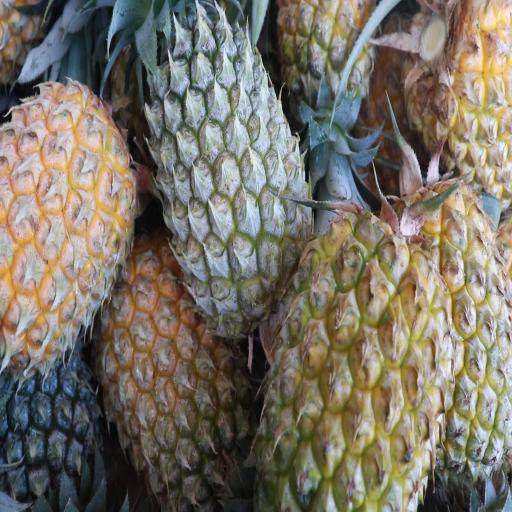------------------------------: (276, 0, 377, 188)
Pineapple - v8 v1: (259, 217, 441, 512), (101, 247, 256, 500), (0, 86, 141, 350), (385, 180, 512, 468), (400, 0, 511, 178)
